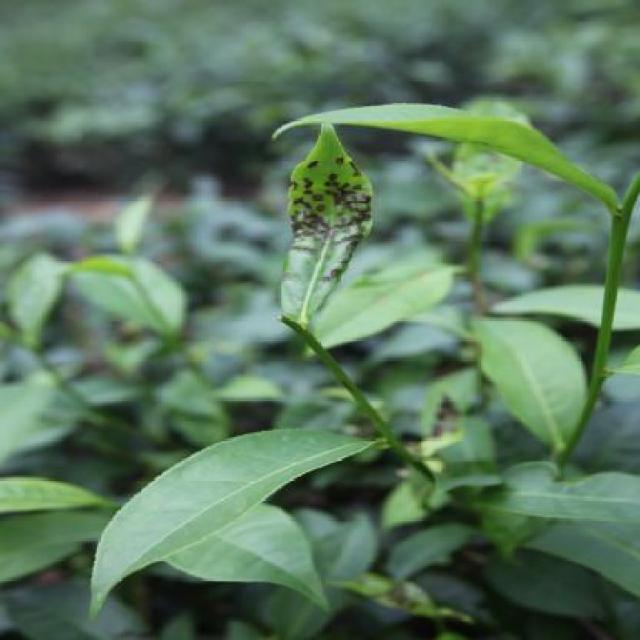Tea Mosquito bug infested leaf: (263, 129, 389, 345)
